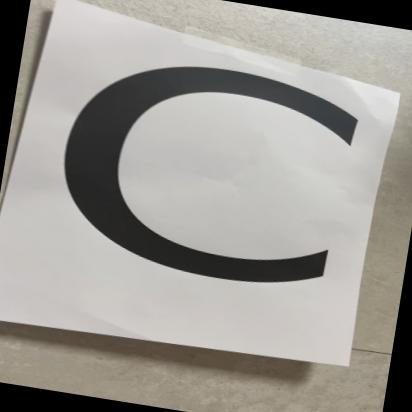seat: (14, 3, 376, 365)
